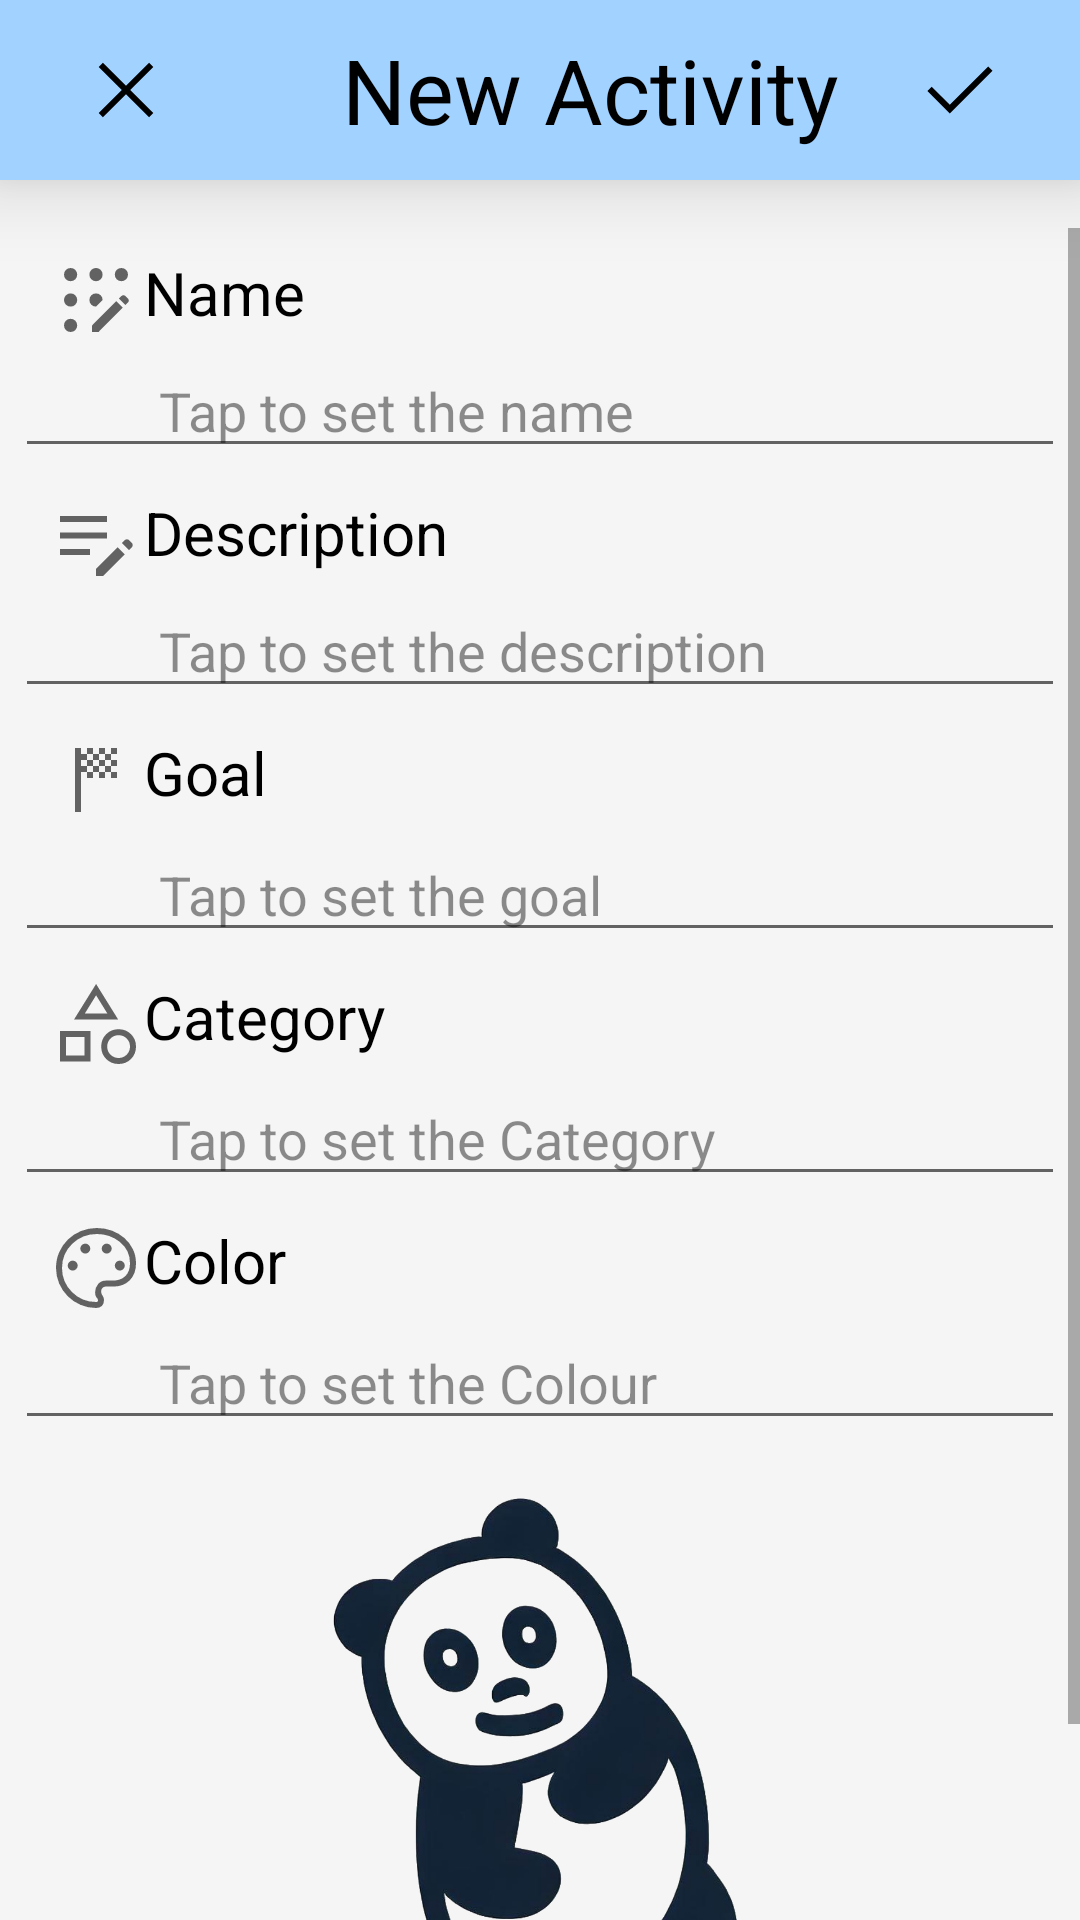

Where icons sit on this 1080 x 1920 app screen, as BBox(x1, y1, x2, y2):
close: BBox(99, 63, 153, 117)
Tick: BBox(927, 66, 993, 114)
